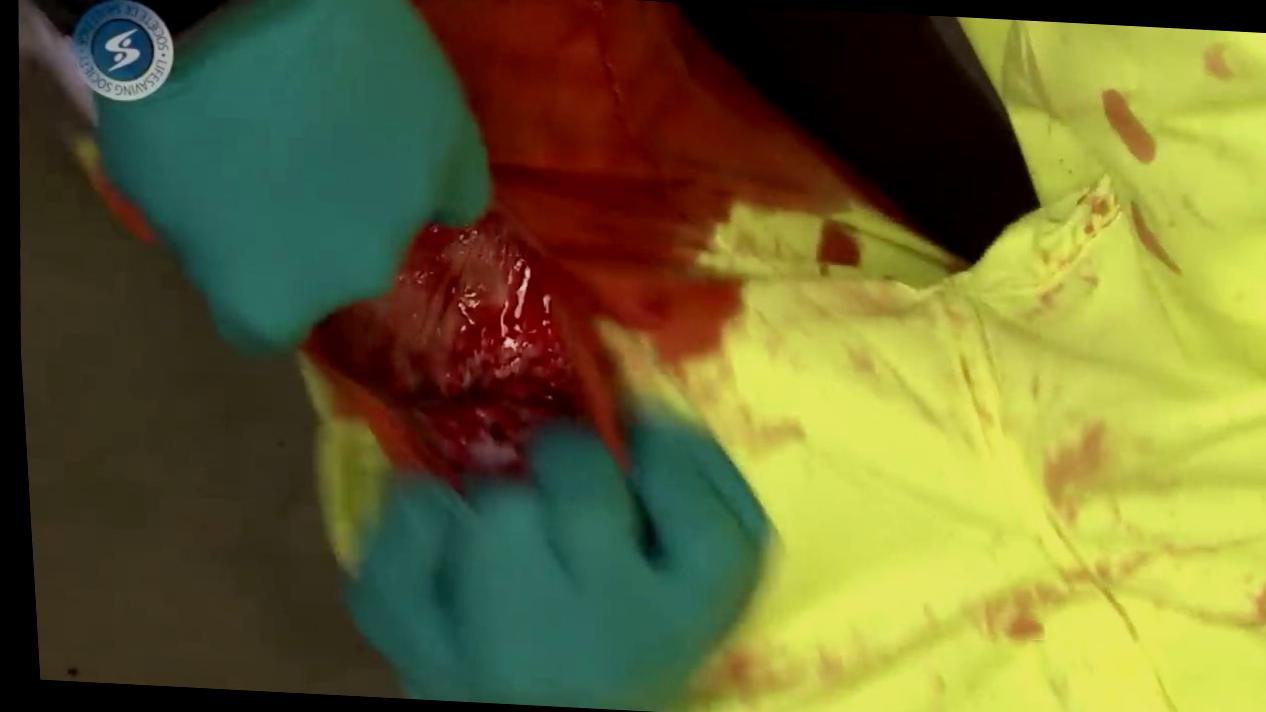Fire: (295, 0, 855, 488), (409, 0, 894, 363), (1102, 89, 1154, 162), (1130, 202, 1178, 275), (814, 220, 857, 266), (999, 611, 1037, 642)
